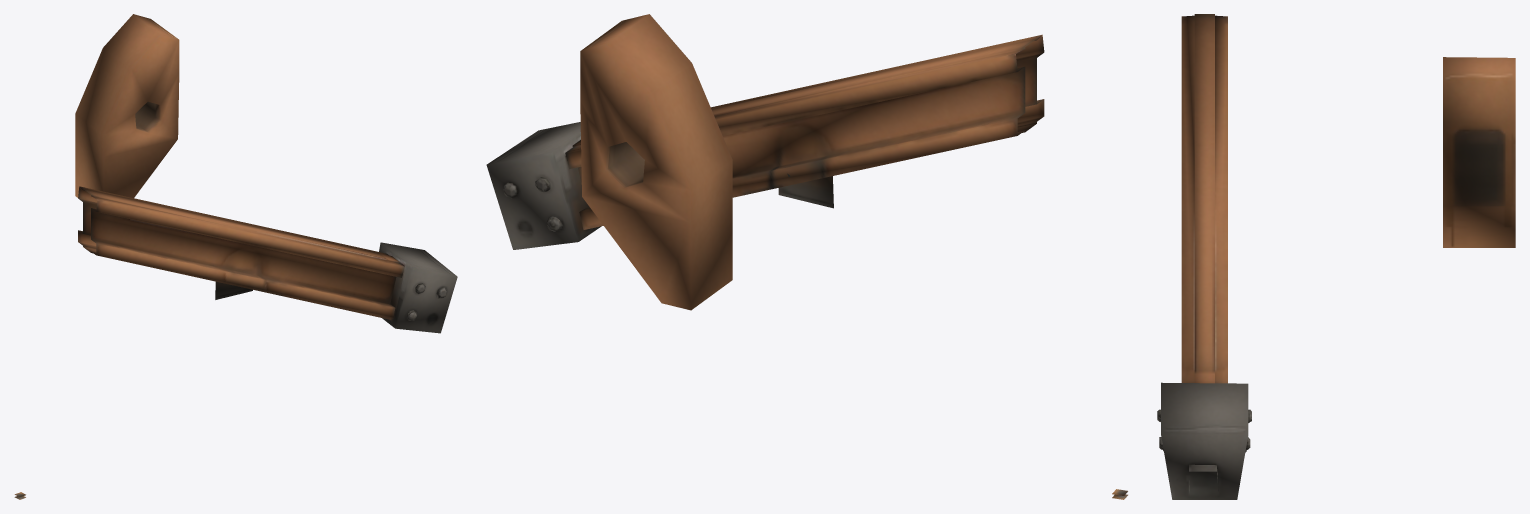
Rendered from pump_jack.glb.
3 renders of one model, left to right at view 1: azimuth 30°, elevation 25°; view 2: azimuth 150°, elevation 25°; view 3: azimuth 270°, elevation 25°, orthographic. The views are drawn at different scales.
Parts seen in each view (by area): view 1: pump_jack; view 2: pump_jack; view 3: pump_jack.
Boxes of the visible parts, bbox=[...] form: pump_jack: bbox=[14, 14, 457, 499]; pump_jack: bbox=[486, 14, 1127, 499]; pump_jack: bbox=[1157, 14, 1515, 499].
Size of the model in its own units: 3.27 by 2.51 by 1.88.
1 material, 1 textured.
